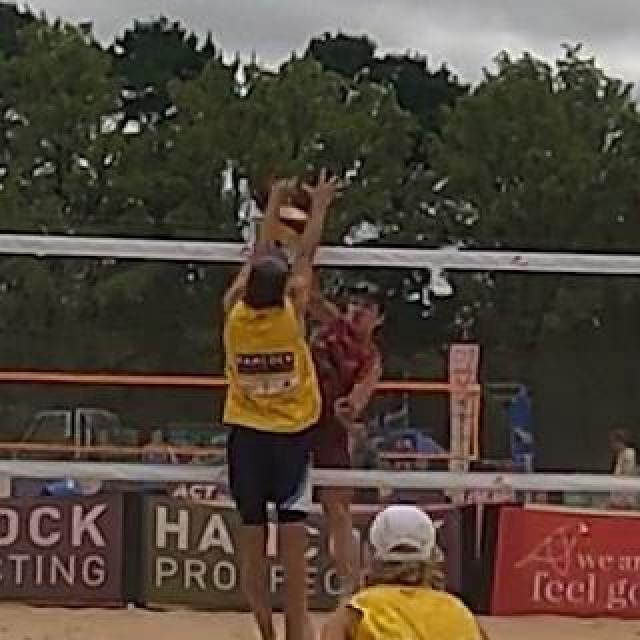volleyball: (265, 206, 313, 252)
